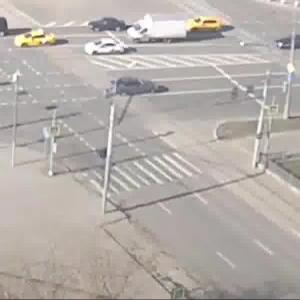car: (131, 18, 195, 44), (14, 31, 58, 52), (87, 15, 135, 34), (187, 14, 224, 35), (116, 76, 151, 95), (90, 41, 123, 57)
